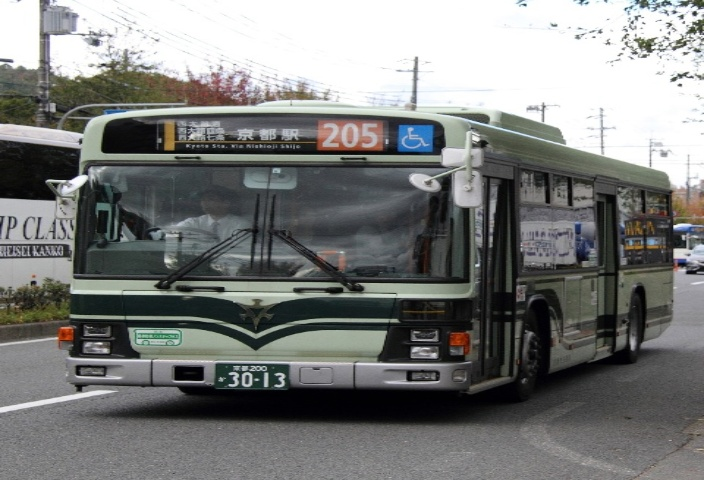bus: (66, 97, 687, 410)
